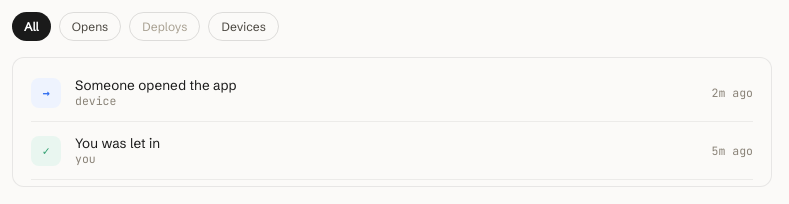
Scenario: AppActivity › narrows to opens, and says so when a filter finds nothing
This screenshot has width=789, height=204.
expect the text "Someone opened the app" is shown: met, box x1=75 y1=77 x2=236 y2=93
expect the text "You was let in" is shown: met, box x1=75 y1=135 x2=160 y2=151
Step 1. Click the button "Opens" → (90, 26), box x1=59 y1=12 x2=121 y2=41
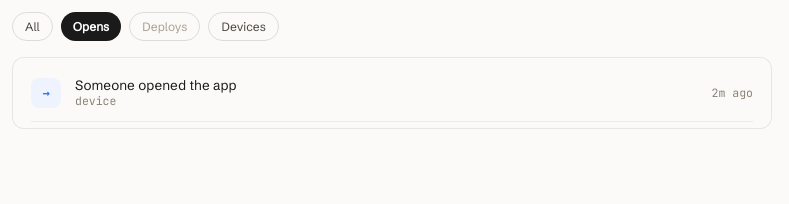
expect the text "Someone opened the app" is shown: met, box x1=75 y1=77 x2=236 y2=93
expect the text "was let in" is gone: met
Step 2. Click the button "Devices" → (244, 26), box x1=208 y1=12 x2=279 y2=41
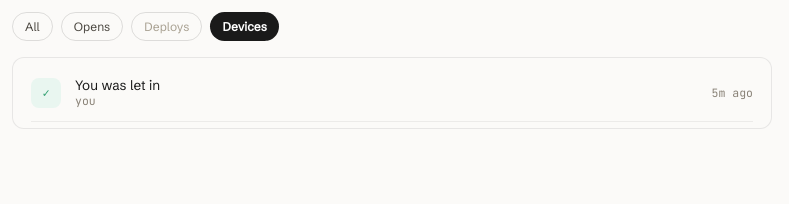
expect the text "opened the app" is gone: met
expect the text "You was let in" is shown: met, box x1=75 y1=77 x2=160 y2=93
